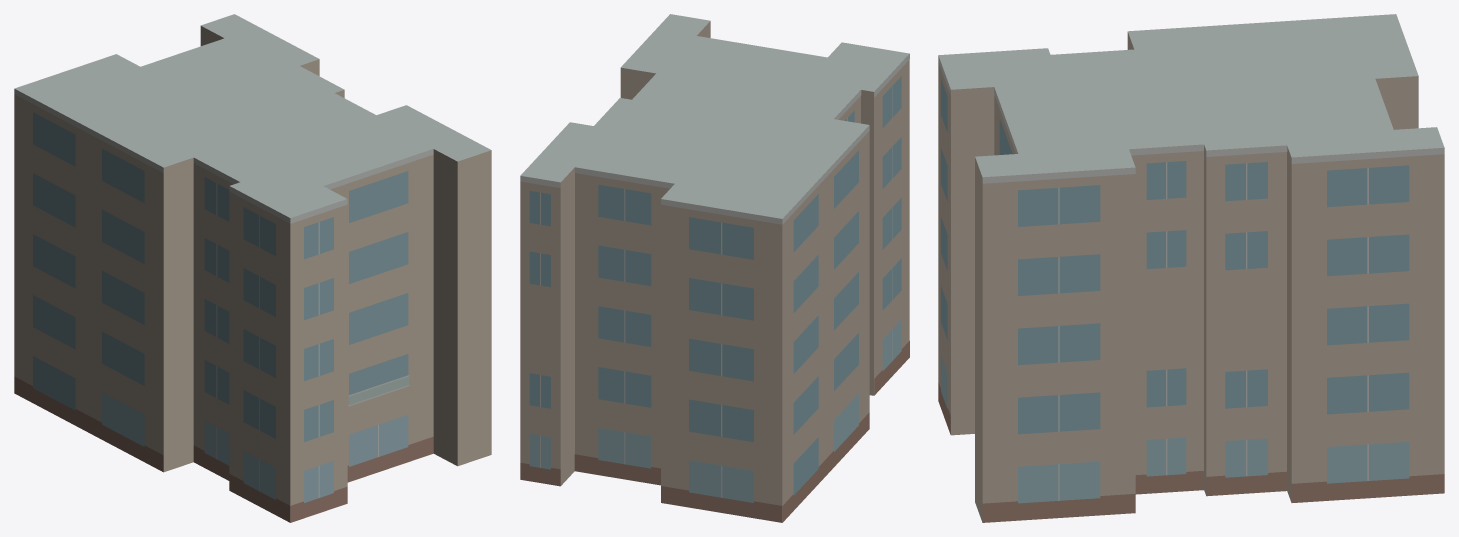
The model's file is survey-upis-32730913.glb.
3 renders of one model, left to right at view 1: azimuth 30°, elevation 25°; view 2: azimuth 150°, elevation 25°; view 3: azimuth 270°, elevation 25°, orthographic. The views are drawn at different scales.
Visible parts, largest first — view 1: survey-upis-32730913.tmp; view 2: survey-upis-32730913.tmp; view 3: survey-upis-32730913.tmp.
Boxes of the visible parts, <box> form: survey-upis-32730913.tmp: <box>14,14,491,522</box>; survey-upis-32730913.tmp: <box>520,14,909,522</box>; survey-upis-32730913.tmp: <box>938,14,1444,522</box>.
Size of the model in its own units: 13.18 by 13 by 17.27.
